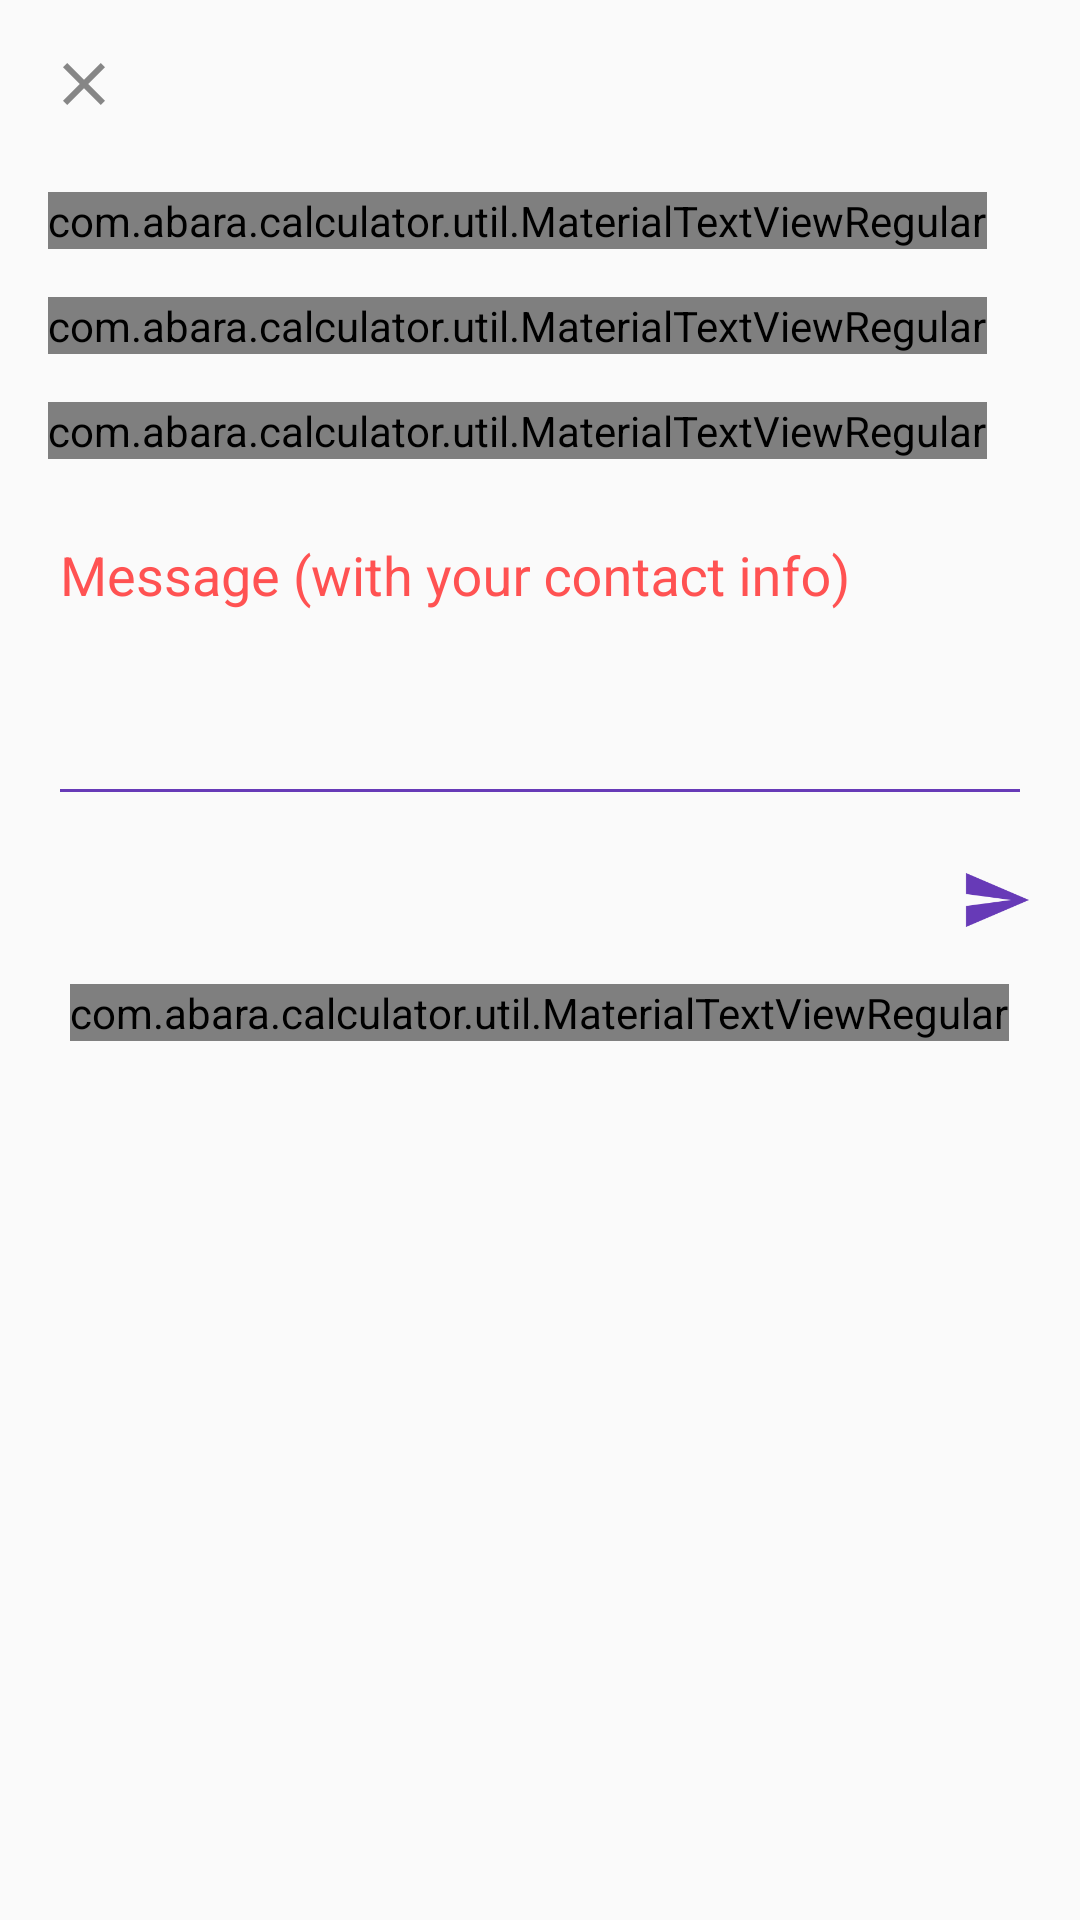

Icons on this 1080 × 1920 Android screen, each with the point to tap as [x,y]:
navigation close: [84,84]
send: [997,900]
